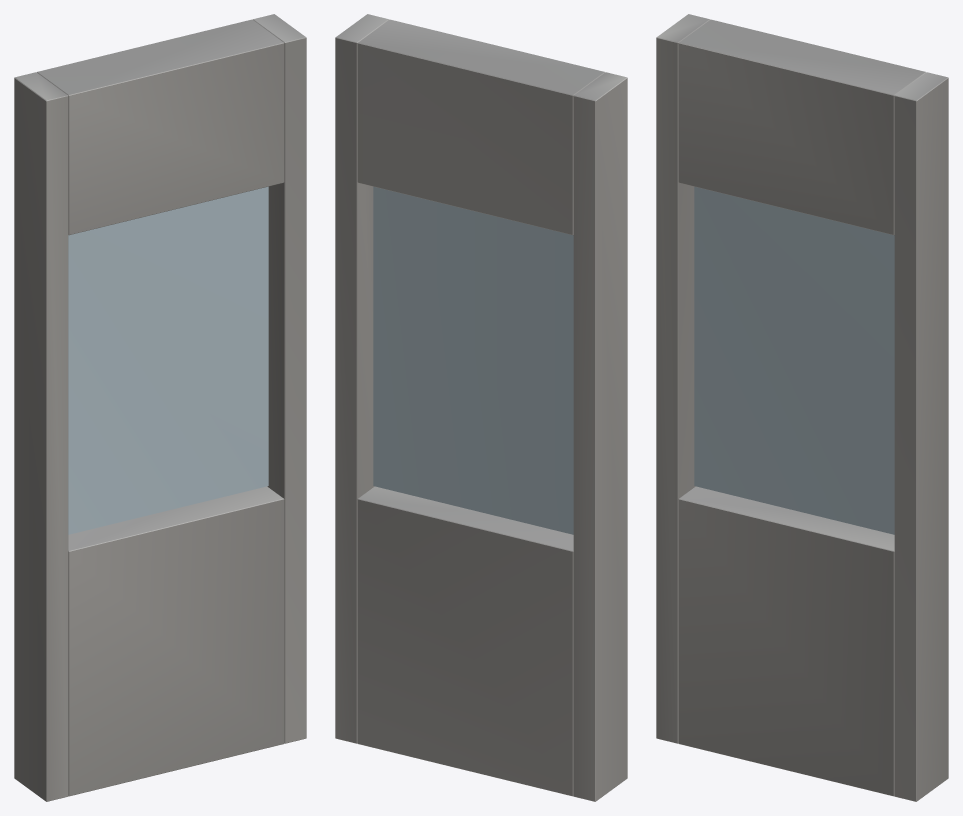
The model's file is window_delco_01_w140.glb.
3 renders of one model, left to right at view 1: azimuth 30°, elevation 25°; view 2: azimuth 150°, elevation 25°; view 3: azimuth 330°, elevation 25°, orthographic.
Parts seen in each view (by area): view 1: Window_Glass, Window_Sill, Window_Jamb_L, Window_Header, Window_Jamb_R; view 2: Window_Glass, Window_Sill, Window_Jamb_L, Window_Header, Window_Jamb_R; view 3: Window_Glass, Window_Sill, Window_Jamb_R, Window_Header, Window_Jamb_L.
Boxes of the visible parts, x1,y1,x2,y2 form: Window_Glass: (68, 186, 268, 534); Window_Sill: (68, 486, 284, 796); Window_Jamb_L: (14, 72, 68, 801); Window_Header: (37, 19, 284, 235); Window_Jamb_R: (253, 14, 306, 743); Window_Glass: (373, 186, 573, 534); Window_Sill: (357, 486, 573, 796); Window_Jamb_L: (573, 72, 627, 801); Window_Header: (357, 19, 604, 235); Window_Jamb_R: (335, 14, 388, 743); Window_Glass: (694, 186, 894, 534); Window_Sill: (678, 486, 894, 796); Window_Jamb_R: (894, 72, 948, 801); Window_Header: (678, 19, 925, 235); Window_Jamb_L: (656, 14, 709, 743).
Size of what is drawn, in the model's own units: 1.4 by 3.6 by 0.3.
